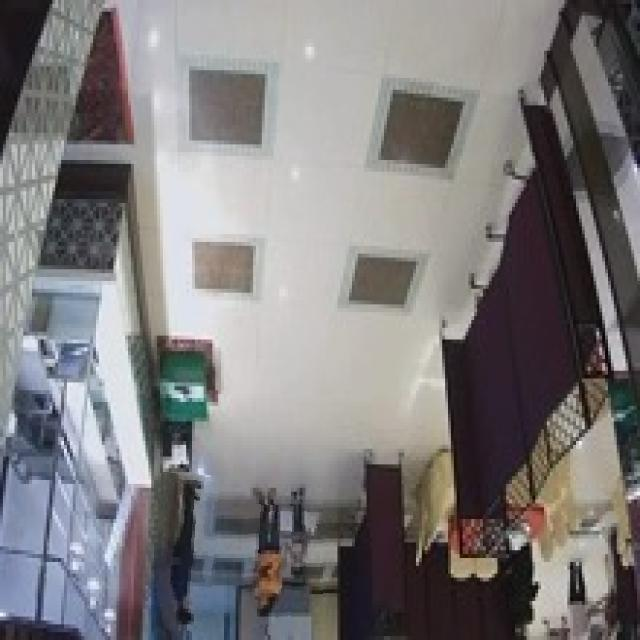normal: (154, 473, 217, 632), (244, 504, 291, 636), (283, 502, 323, 606)
